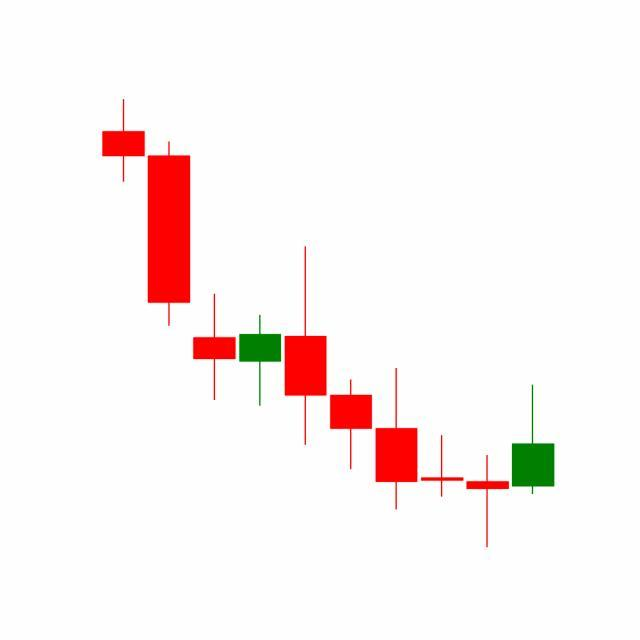Hikkake Pattern: (283, 242, 512, 548)
